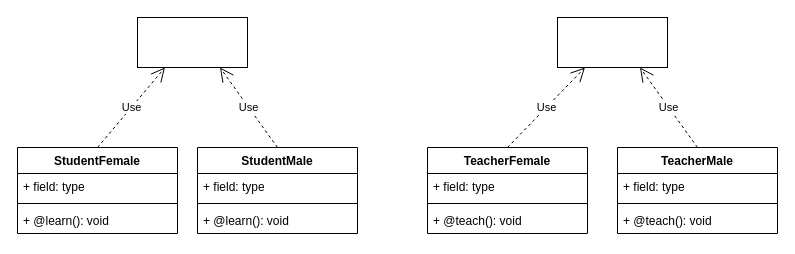
Some shapes in this 795 by 254 pixel diagram are drawn without their labels. Here are the shapes that lost their labels. From the top down, the centre of each, then its label:
At [192,42]: "«interface» Student".
At [612,42]: "«interface» Teacher".
